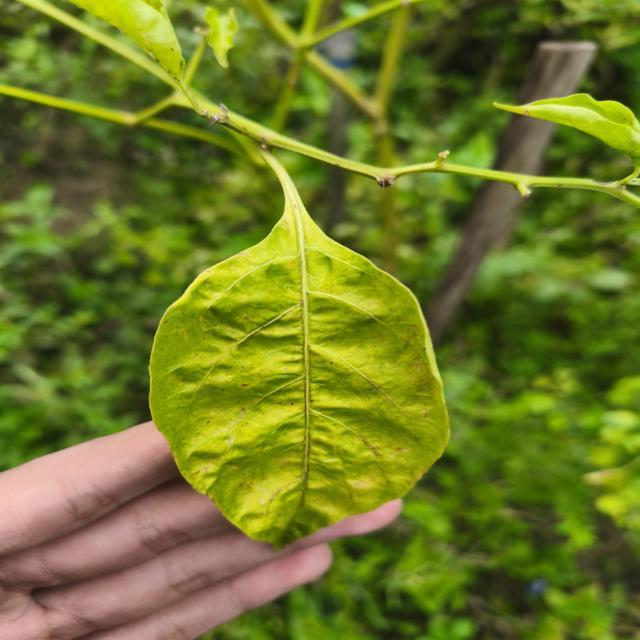Virus Kuning: (147, 214, 452, 551), (492, 91, 640, 186)
